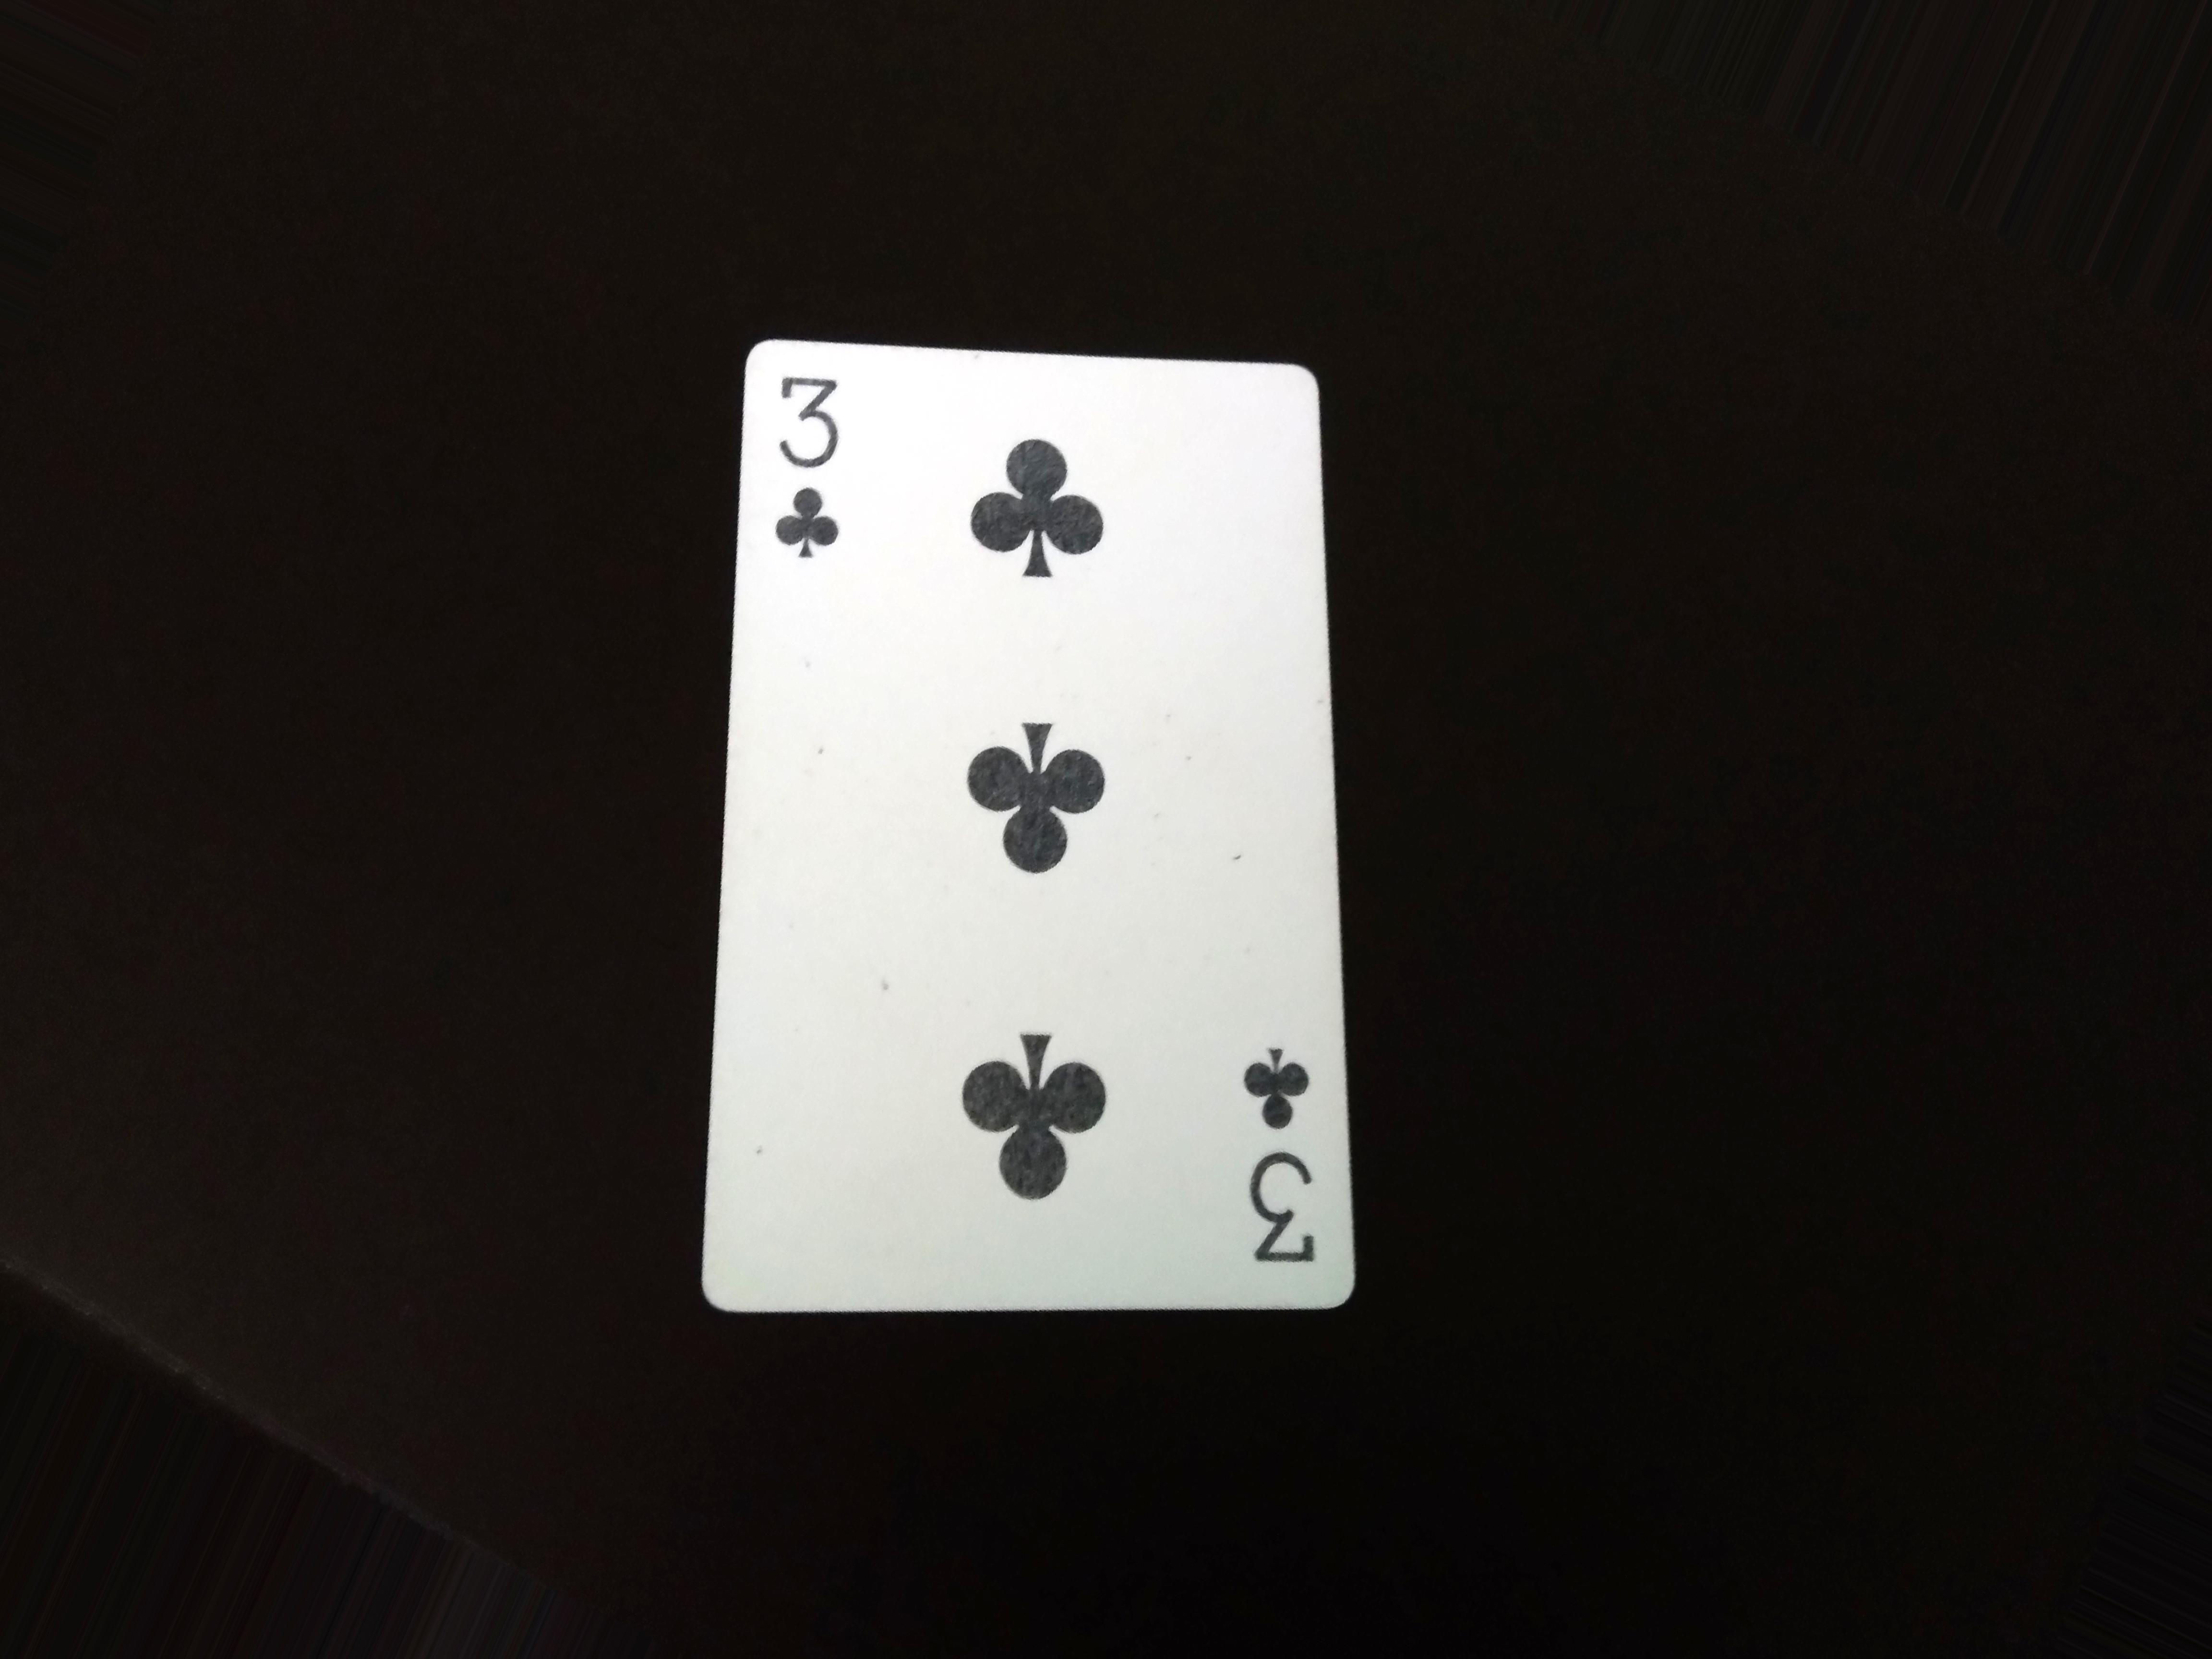3C: (751, 355, 878, 599)
